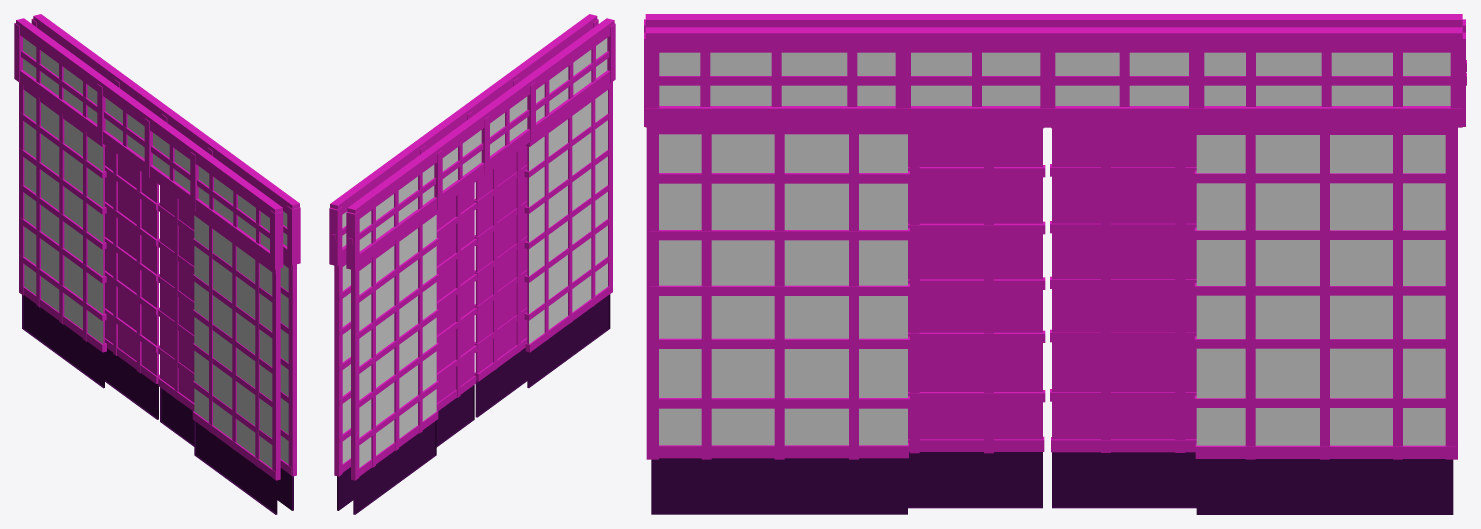
The model's file is Kap.fbx.
3 views of the same model, side by side, from view 1: azimuth 30°, elevation 25°; view 2: azimuth 150°, elevation 25°; view 3: azimuth 270°, elevation 25° (orthographic). The views are drawn at different scales.
Visible parts, largest first — view 1: Cube.103, Cube.047, Cube.104, Cube.001; view 2: Cube.103, Cube.001, Cube.104, Cube.047; view 3: Cube.104, Cube.047, Cube.001, Cube.103.
Boxes of the visible parts, x1=… form: Cube.103: x1=14, y1=18, x2=283, y2=514; Cube.047: x1=105, y1=146, x2=159, y2=419; Cube.104: x1=31, y1=14, x2=300, y2=510; Cube.001: x1=158, y1=185, x2=194, y2=446; Cube.103: x1=346, y1=18, x2=615, y2=514; Cube.001: x1=474, y1=145, x2=527, y2=417; Cube.104: x1=329, y1=14, x2=598, y2=510; Cube.047: x1=436, y1=183, x2=477, y2=447; Cube.104: x1=644, y1=27, x2=1466, y2=514; Cube.047: x1=1050, y1=127, x2=1196, y2=508; Cube.001: x1=908, y1=127, x2=1045, y2=508; Cube.103: x1=644, y1=14, x2=1466, y2=72.
Bounding box in the file's own units: 36.5 × 417 × 641.
